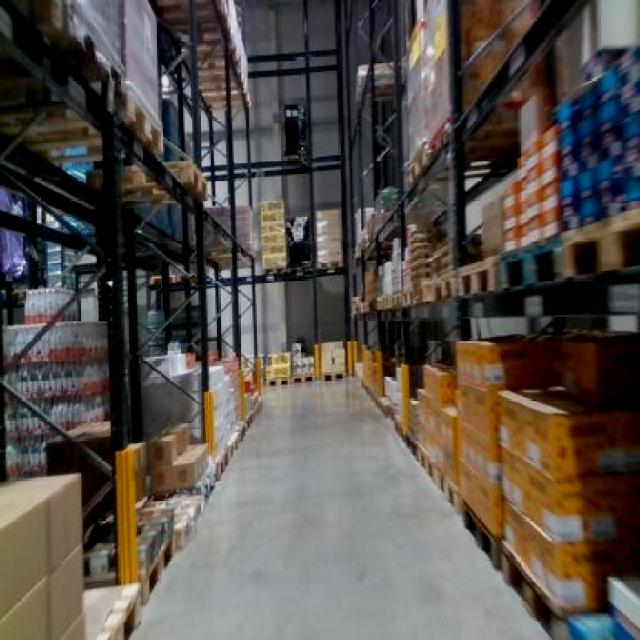pallets: (0, 472, 82, 637)
